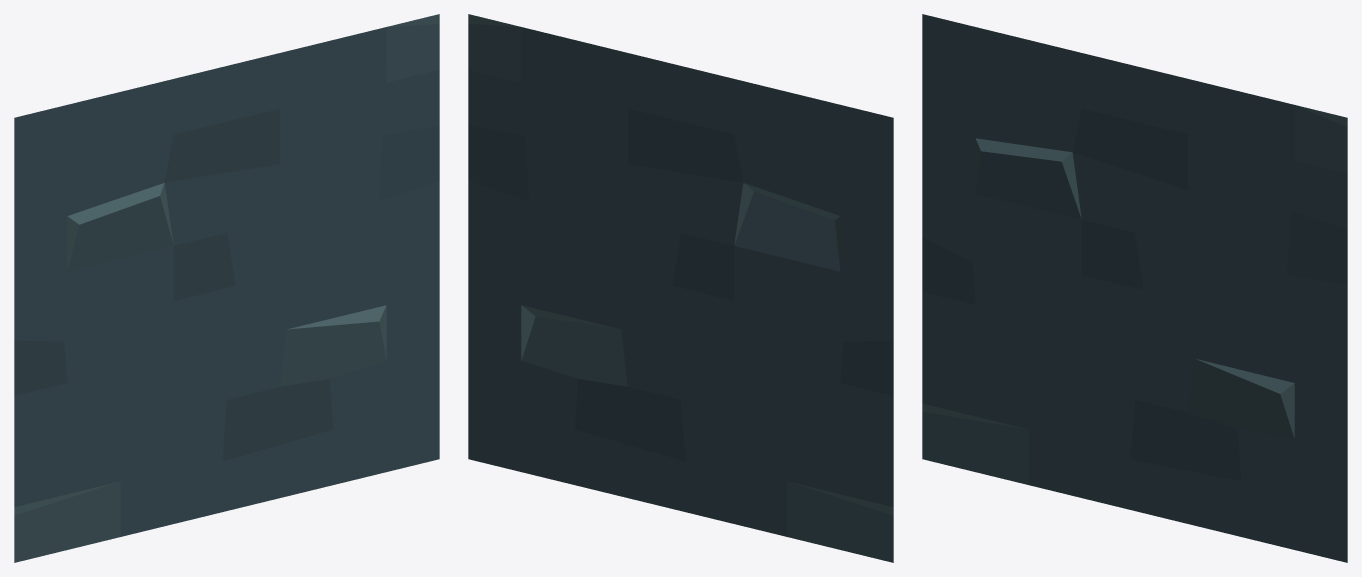
The model's file is wall_4m_front.fbx.
The picture shows the model from 3 angles, left to right: view 1: azimuth 30°, elevation 25°; view 2: azimuth 150°, elevation 25°; view 3: azimuth 330°, elevation 25°; orthographic projection.
Parts seen in each view (by area): view 1: wall_4m_front; view 2: wall_4m_front; view 3: wall_4m_front.
Boxes of the visible parts, x1=… form: wall_4m_front: x1=14, y1=14, x2=439, y2=562; wall_4m_front: x1=468, y1=14, x2=893, y2=562; wall_4m_front: x1=922, y1=14, x2=1347, y2=562.
Size of the model in its own units: 400 by 400 by 5.76.
